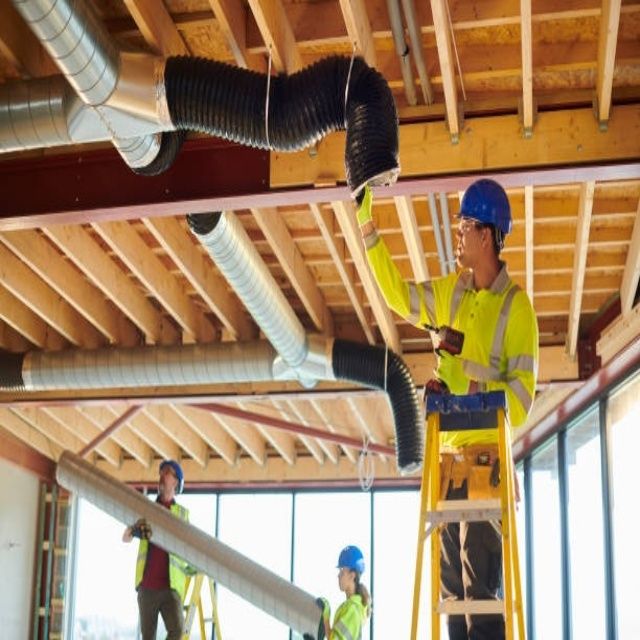Gafas: (458, 218, 488, 235), (159, 461, 177, 480)
Guantes: (351, 187, 376, 229)
Sin_mascara: (455, 235, 477, 271)
